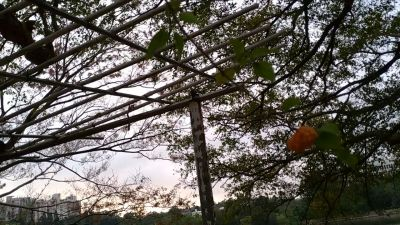eggs: (289, 125, 319, 153)
